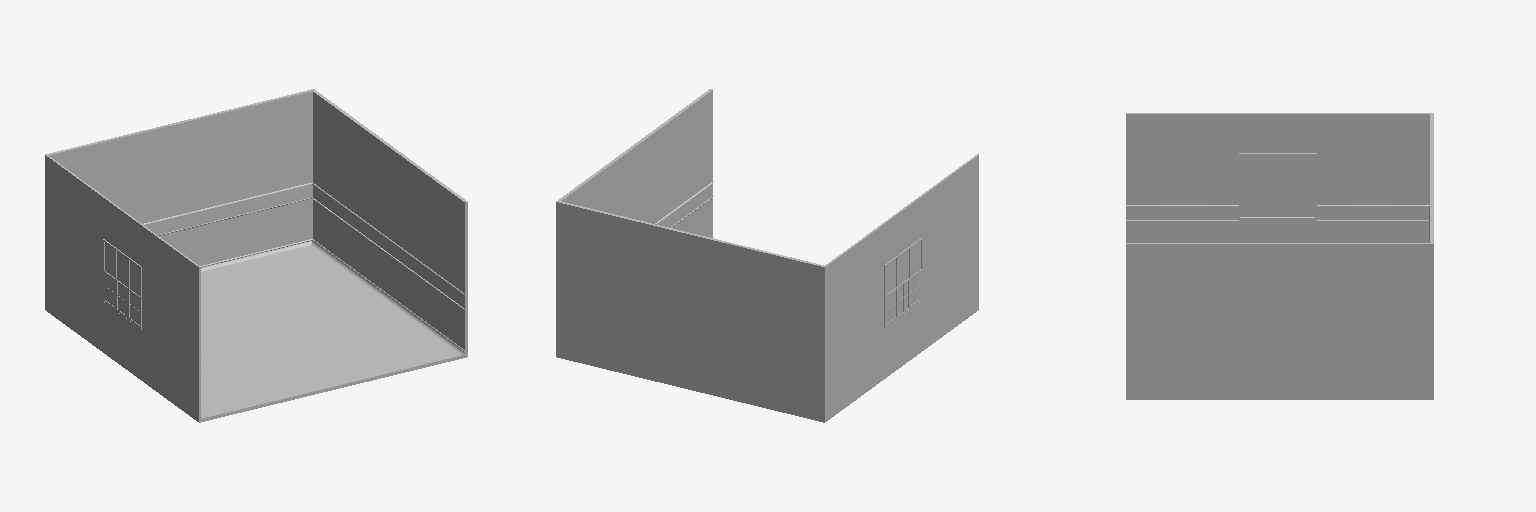
The model's file is room7.obj.
The picture shows the model from 3 angles: view 1: azimuth 30°, elevation 25°; view 2: azimuth 150°, elevation 25°; view 3: azimuth 270°, elevation 25°; orthographic projection.
Visible parts, largest first — view 1: Object.1; view 2: Object.1; view 3: Object.1.
Boxes of the visible parts, <box> form: Object.1: <box>45,89,467,422</box>; Object.1: <box>556,89,978,422</box>; Object.1: <box>1126,113,1433,399</box>.
Bounding box in the file's own units: 246 × 135 × 243.